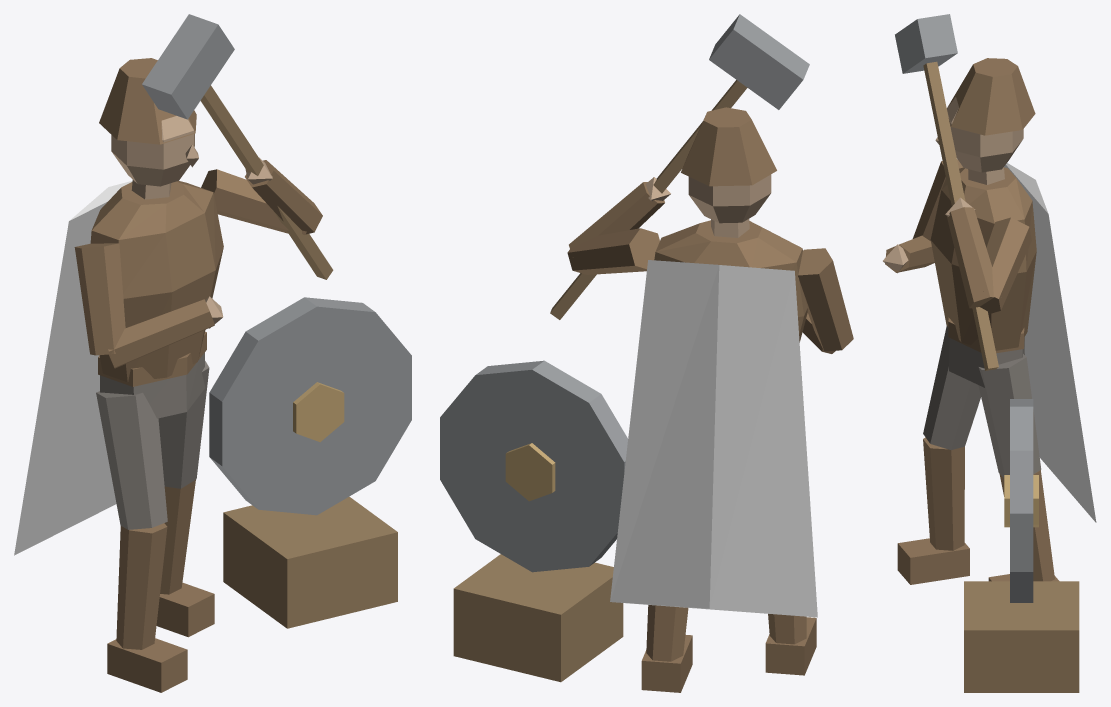
File: engineer.glb
The picture shows the model from 3 angles, left to right: view 1: azimuth 30°, elevation 25°; view 2: azimuth 150°, elevation 25°; view 3: azimuth 270°, elevation 25°; orthographic projection. The views are drawn at different scales.
Visible parts, largest first — view 1: LOD0; view 2: LOD0; view 3: LOD0.
Part boxes in pixels (x1,y1,x2,y2): LOD0: [14, 14, 411, 692]; LOD0: [440, 14, 853, 692]; LOD0: [883, 14, 1096, 692].
Size of what is drawn, in the model's own units: 0.6988 by 1.11 by 0.3706.
